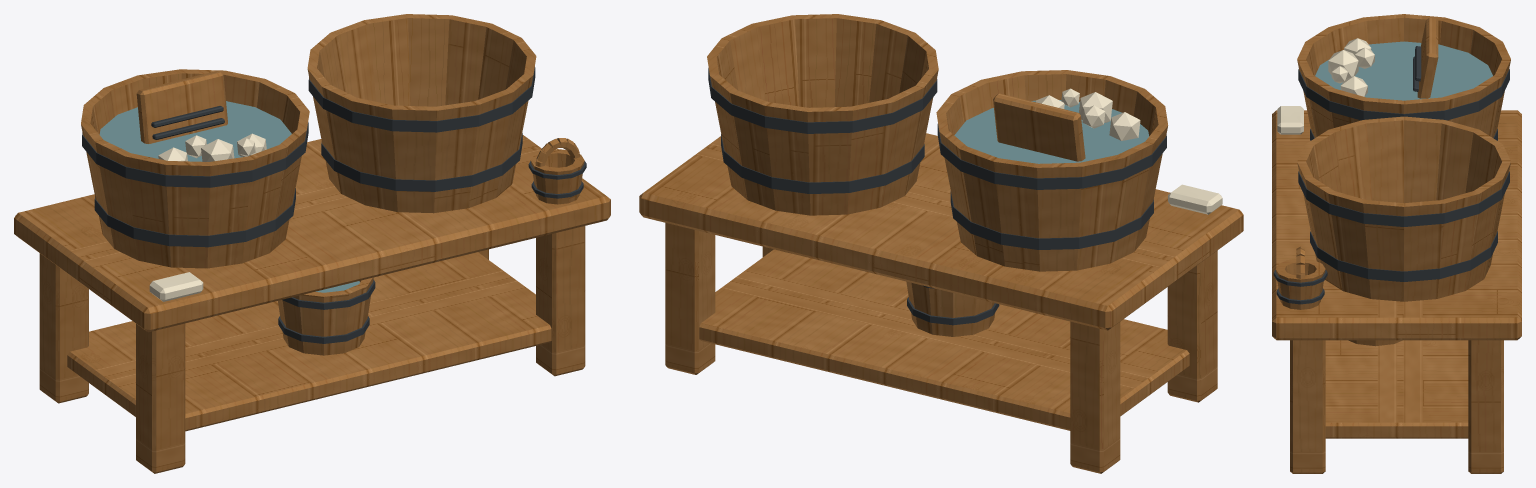
Rendered from Furn_WashTub.fbx.
3 renders of one model, left to right at view 1: azimuth 30°, elevation 25°; view 2: azimuth 150°, elevation 25°; view 3: azimuth 270°, elevation 25°, orthographic. The views are drawn at different scales.
Parts seen in each view (by area): view 1: Furn_WashTub_Mesh; view 2: Furn_WashTub_Mesh; view 3: Furn_WashTub_Mesh.
Boxes of the visible parts, x1=… form: Furn_WashTub_Mesh: x1=14, y1=14, x2=610, y2=473; Furn_WashTub_Mesh: x1=639, y1=14, x2=1243, y2=473; Furn_WashTub_Mesh: x1=1272, y1=14, x2=1521, y2=473.
Bounding box in the file's own units: 1.4 × 0.899 × 0.7.
Materials: 4 (2 with a texture image).
